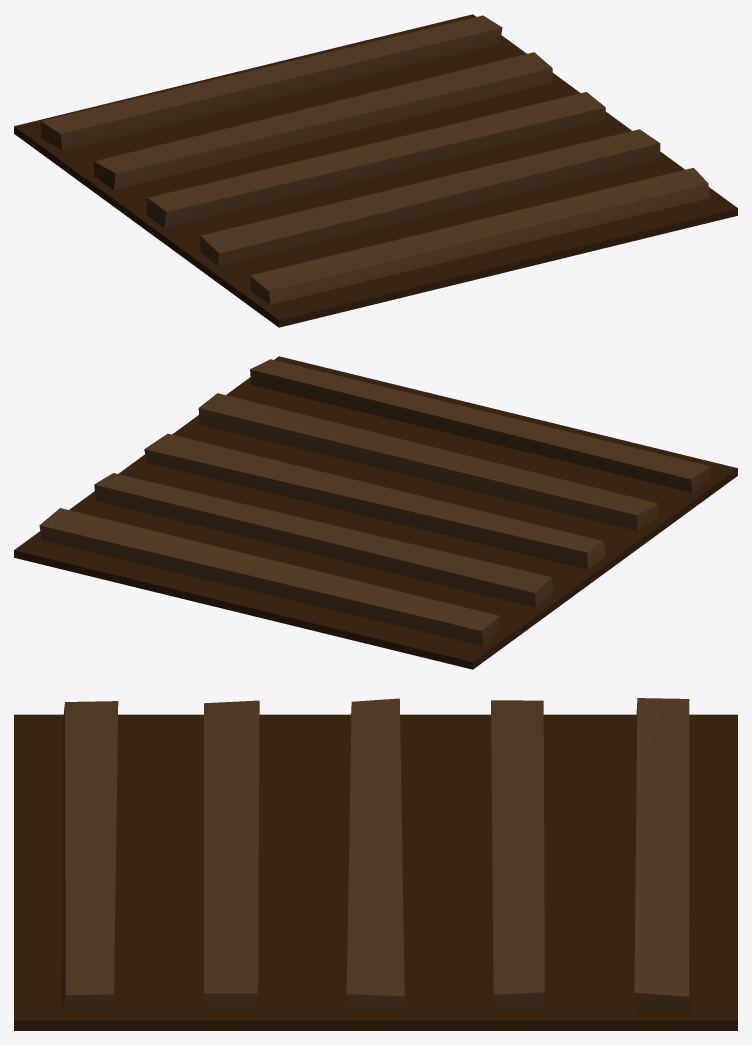
Rendered from soil.glb.
3 renders of one model, top to bottom at view 1: azimuth 30°, elevation 25°; view 2: azimuth 150°, elevation 25°; view 3: azimuth 270°, elevation 25°, orthographic. The views are drawn at different scales.
Parts seen in each view (by area): view 1: soil; view 2: soil; view 3: soil.
Part boxes in pixels (x1,y1,x2,y2): soil: [14, 14, 737, 327]; soil: [14, 356, 737, 669]; soil: [14, 698, 737, 1030].
Bounding box in the file's own units: 0.96 × 0.0488 × 0.96.
